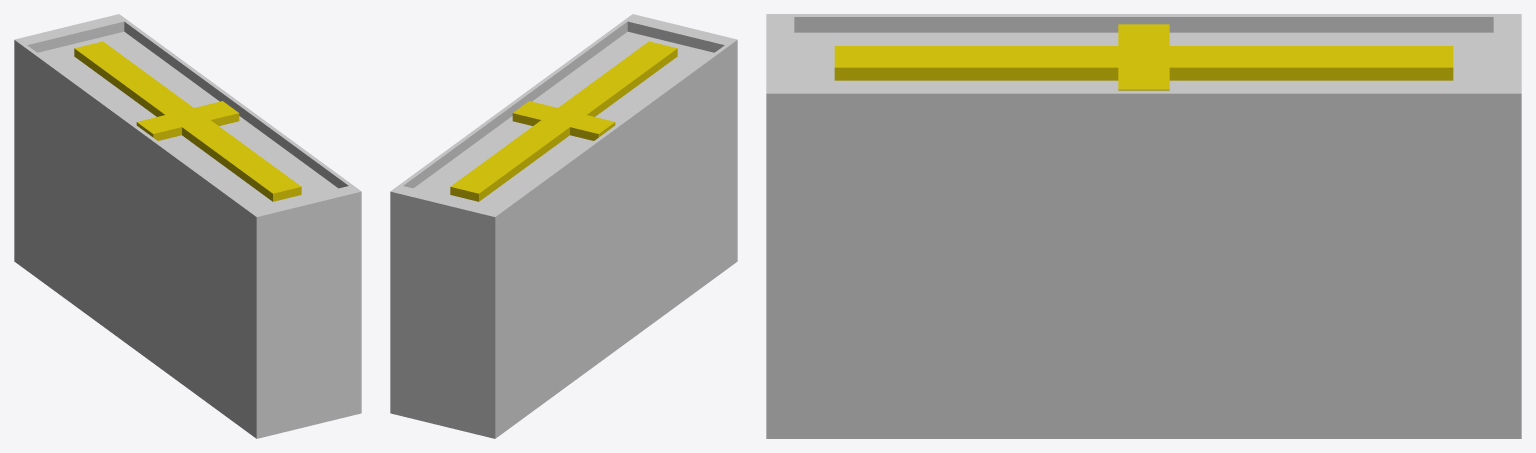
The model's file is NarrowPlatform.fbx.
3 renders of one model, left to right at view 1: azimuth 30°, elevation 25°; view 2: azimuth 150°, elevation 25°; view 3: azimuth 270°, elevation 25°, orthographic. The views are drawn at different scales.
Parts seen in each view (by area): view 1: NarrowPlatform; view 2: NarrowPlatform; view 3: NarrowPlatform.
Boxes of the visible parts, left/top/right/bottom form: NarrowPlatform: left=14, top=14, right=361, bottom=438; NarrowPlatform: left=390, top=14, right=737, bottom=438; NarrowPlatform: left=766, top=14, right=1521, bottom=438.
Size of the model in its own units: 50 by 101 by 200.
